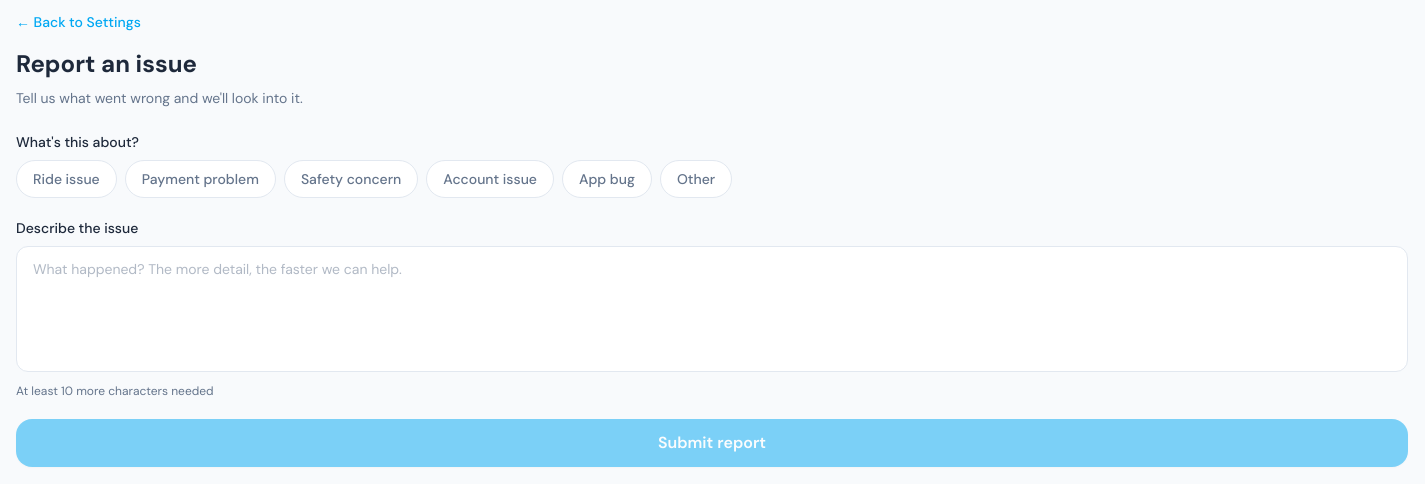
Scenario: ReportIssuePage › shows success message after submit
The width and height of the screenshot is (1425, 484).
Click the button with test id "category-ride".
click(66, 179)  # box x1=16 y1=160 x2=117 y2=198
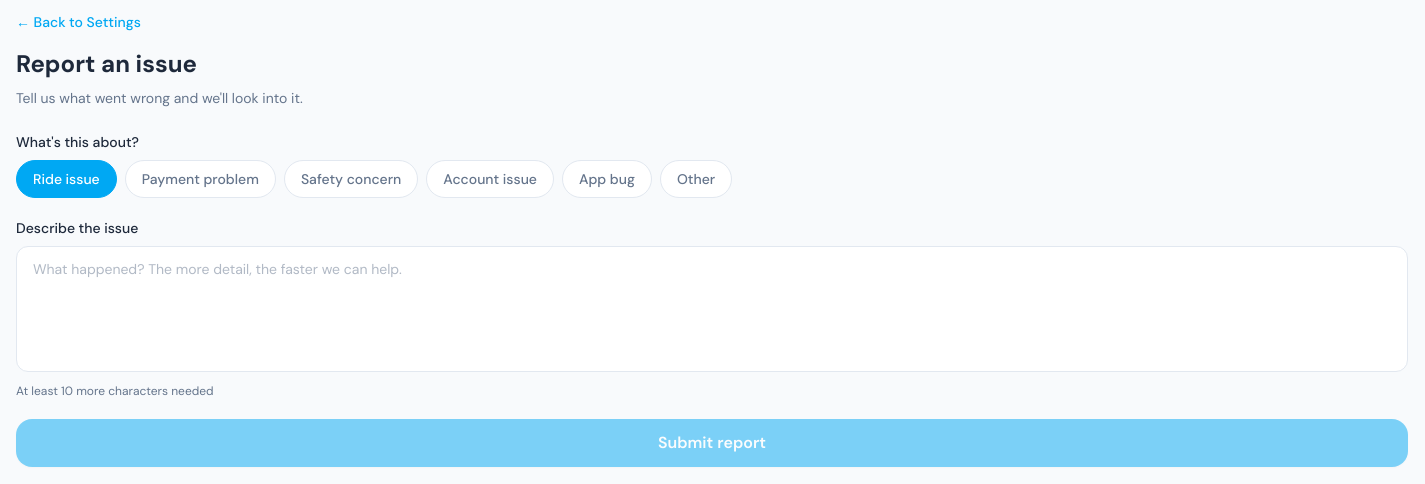
Type "The driver never showed up at pickup." into the text box with test id "description-input".
click(712, 309); type("The driver never showed up at pickup.")  # box x1=16 y1=246 x2=1408 y2=372
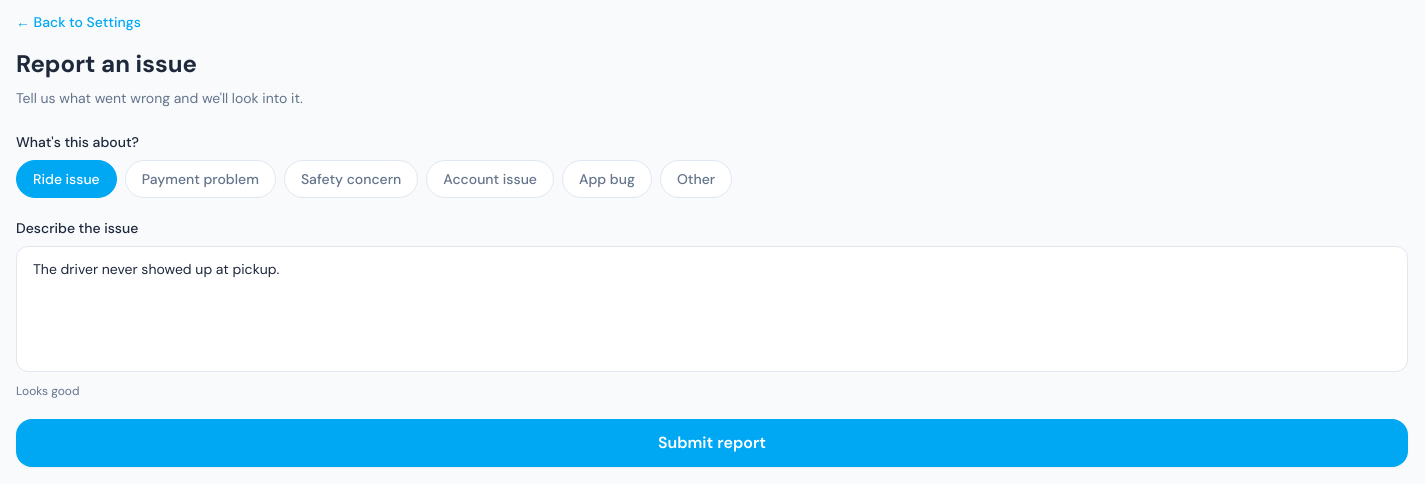
Click the button with test id "submit-button".
click(712, 443)  # box x1=16 y1=419 x2=1408 y2=467
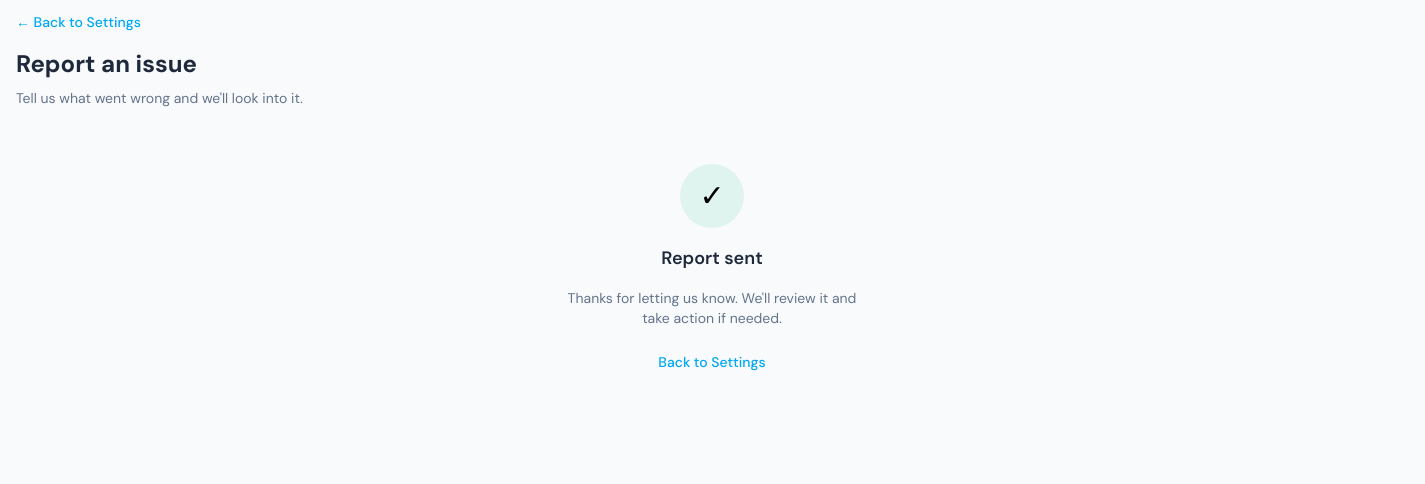
expect the element with test id "success-message" is shown: met, box x1=568 y1=164 x2=856 y2=372
expect the heading "Report sent" is shown: met, box x1=661 y1=244 x2=763 y2=272
